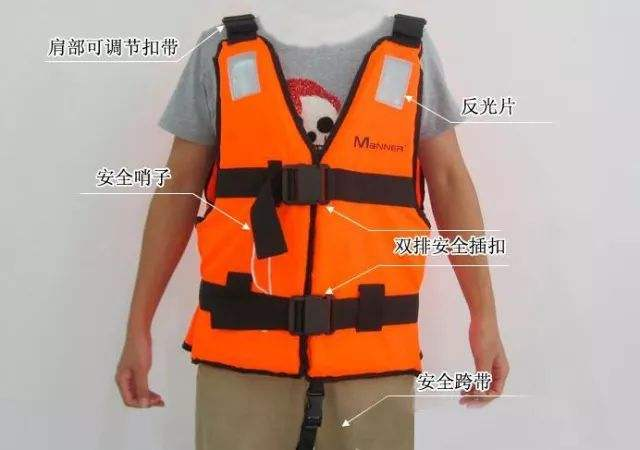reflective_clothes: (160, 12, 449, 381)
